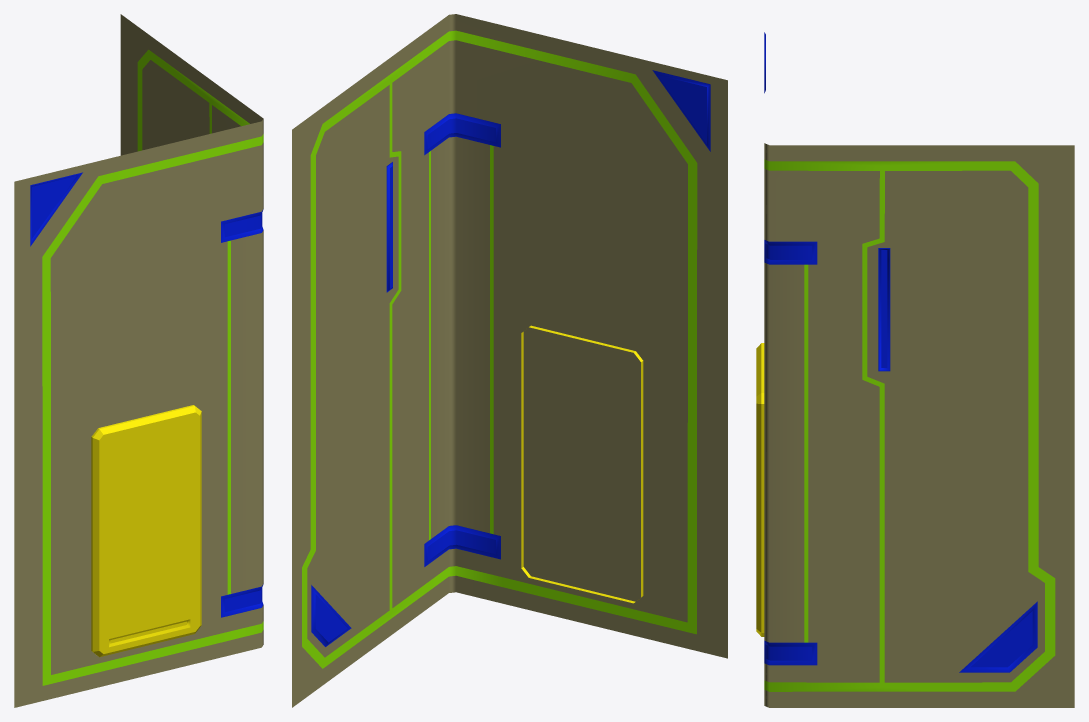
The model's file is Building_Wall_02a_snaps016.fbx.
3 renders of one model, left to right at view 1: azimuth 30°, elevation 25°; view 2: azimuth 150°, elevation 25°; view 3: azimuth 270°, elevation 25°, orthographic. The views are drawn at different scales.
Visible parts, largest first — view 1: Building_Wall_02a_snaps016_LOD0; view 2: Building_Wall_02a_snaps016_LOD0; view 3: Building_Wall_02a_snaps016_LOD0.
Boxes of the visible parts, box(x1,y1,x2,y2) form: Building_Wall_02a_snaps016_LOD0: box(14, 14, 263, 707); Building_Wall_02a_snaps016_LOD0: box(292, 14, 727, 707); Building_Wall_02a_snaps016_LOD0: box(756, 32, 1074, 707).
Size of what is drawn, in the model's own units: 3 by 6 by 3.08.
